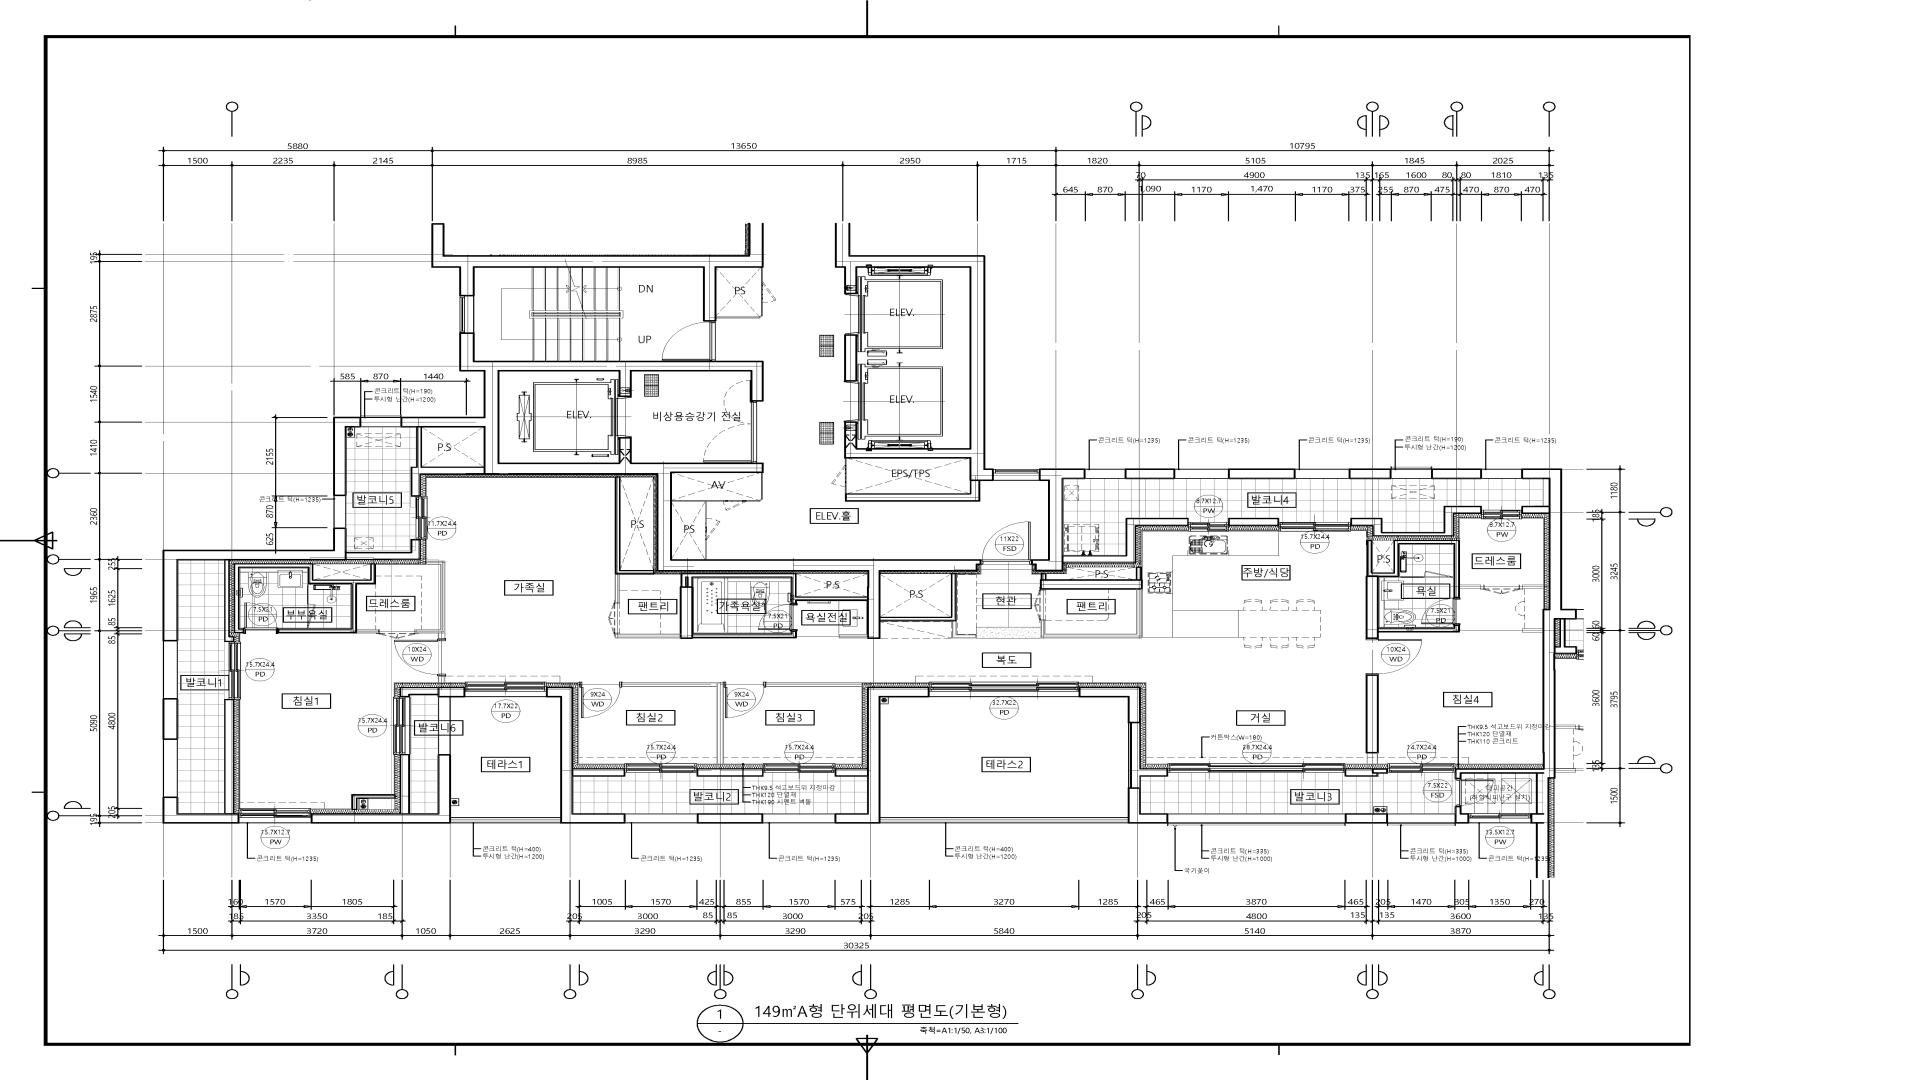door: (702, 400, 757, 463), (393, 640, 444, 683), (981, 521, 1031, 564), (662, 322, 716, 361), (1366, 638, 1423, 674), (579, 682, 621, 719), (723, 682, 765, 719), (465, 682, 546, 698), (243, 603, 280, 634), (758, 603, 798, 632), (1422, 597, 1460, 626), (1456, 779, 1494, 806), (438, 698, 451, 754), (378, 629, 417, 640), (307, 584, 316, 628), (1481, 585, 1523, 595), (608, 603, 620, 634), (1399, 571, 1453, 578), (761, 281, 777, 302), (831, 465, 847, 487), (705, 518, 720, 541), (1035, 589, 1046, 620), (724, 500, 746, 512)
wall: (401, 332, 981, 640), (835, 223, 993, 502), (1455, 468, 1577, 824), (431, 223, 764, 322), (162, 527, 421, 641), (615, 574, 866, 638), (1031, 468, 1188, 571), (835, 687, 930, 824), (1079, 687, 1168, 824), (1366, 539, 1481, 638), (546, 687, 625, 824), (233, 563, 378, 633), (310, 754, 451, 824), (162, 699, 240, 824), (621, 683, 724, 764), (1040, 567, 1142, 638), (881, 574, 976, 638), (615, 477, 654, 603), (1350, 506, 1482, 537), (415, 560, 446, 640), (334, 418, 361, 496), (1365, 675, 1379, 764), (673, 500, 724, 518), (224, 560, 235, 642), (1228, 468, 1295, 480), (716, 302, 762, 318), (162, 698, 179, 740), (351, 794, 396, 810), (696, 814, 764, 824), (400, 687, 465, 698), (1431, 468, 1482, 480), (844, 335, 857, 381), (1125, 468, 1175, 480), (696, 769, 764, 777), (766, 682, 862, 687), (746, 473, 764, 501), (1348, 468, 1391, 479), (1345, 814, 1389, 824), (1228, 518, 1279, 526), (1344, 769, 1389, 777), (1455, 806, 1469, 824), (839, 634, 868, 638), (1522, 629, 1543, 633), (1523, 584, 1543, 588), (705, 541, 707, 559), (761, 268, 762, 281), (845, 487, 847, 495), (845, 459, 847, 465)
window: (928, 682, 1079, 698), (1168, 814, 1345, 824), (1168, 764, 1345, 773), (881, 818, 1127, 823), (239, 808, 310, 823), (393, 696, 410, 754), (224, 642, 241, 699), (162, 641, 178, 698), (162, 740, 178, 796), (625, 814, 698, 823), (1279, 522, 1350, 531), (764, 814, 835, 823), (625, 764, 696, 773), (764, 764, 835, 773), (1387, 814, 1455, 823), (1387, 764, 1455, 773), (451, 818, 560, 823), (1295, 468, 1349, 479), (459, 297, 475, 332), (1469, 814, 1530, 823), (1175, 468, 1228, 479), (415, 496, 427, 539), (993, 469, 1039, 480), (334, 496, 345, 527), (1188, 522, 1228, 531), (1482, 469, 1522, 479), (1482, 510, 1522, 520), (1391, 469, 1431, 479), (1085, 469, 1125, 479)
